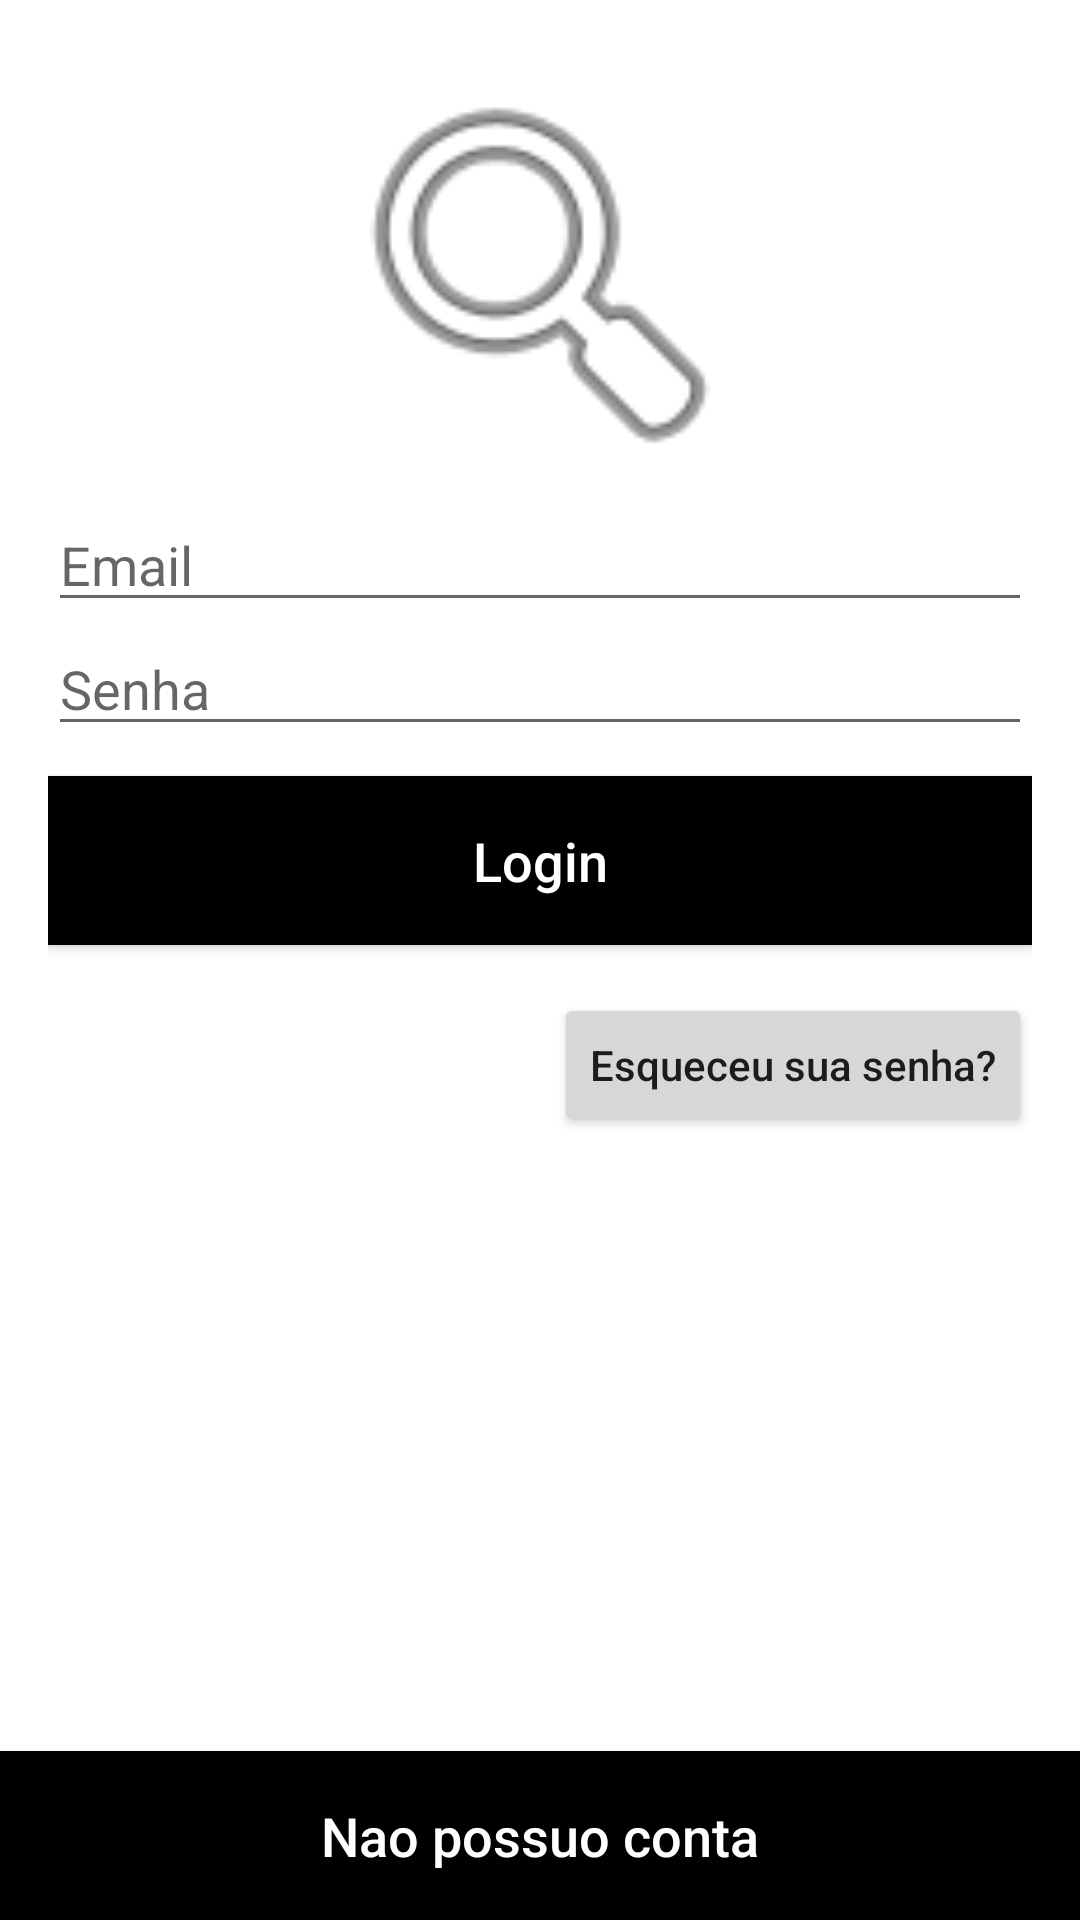

Named icons in this screenshot (1080px x 1920px) and their centers, [x,y]:
search: [540,275]
